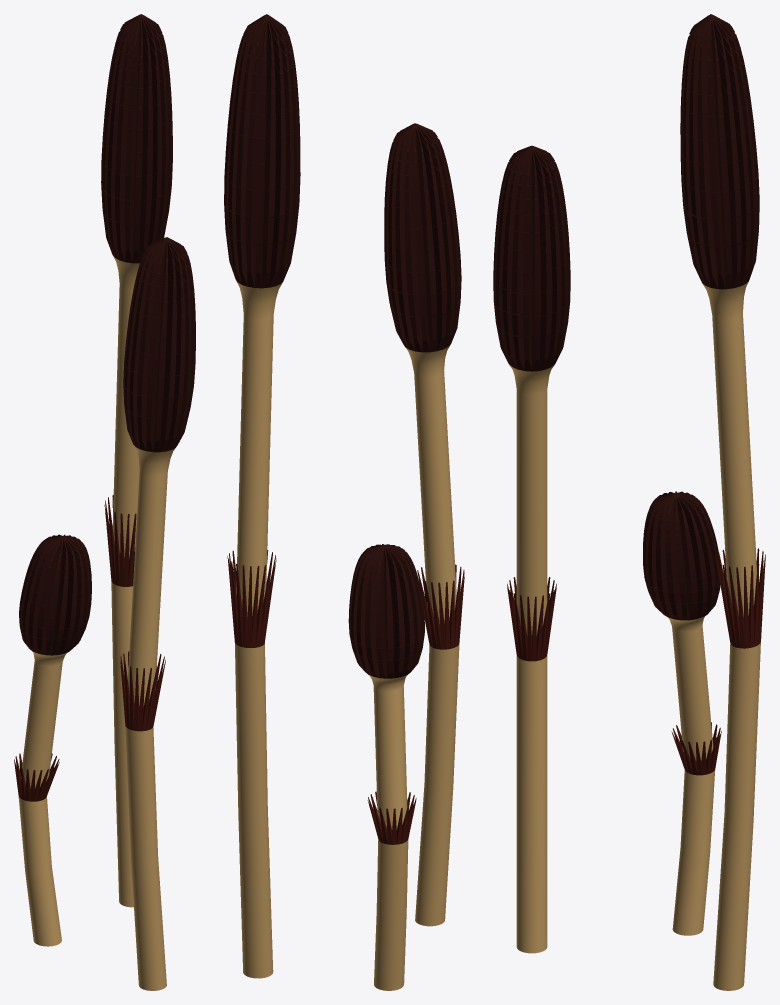
File: tukusi.fbx
3 views of the same model, side by side, from view 1: azimuth 30°, elevation 25°; view 2: azimuth 150°, elevation 25°; view 3: azimuth 270°, elevation 25° (orthographic). The views are drawn at different scales.
Parts seen in each view (by area): view 1: pCylinder4, pCylinder2, pCylinder3; view 2: pCylinder2, pCylinder4, pCylinder3; view 3: pCylinder2, pCylinder4, pCylinder3.
Boxes of the visible parts, bbox=[...] form: pCylinder4: bbox=[120, 237, 195, 990]; pCylinder2: bbox=[101, 14, 172, 907]; pCylinder3: bbox=[14, 534, 91, 946]; pCylinder2: bbox=[224, 14, 300, 978]; pCylinder4: bbox=[384, 123, 464, 926]; pCylinder3: bbox=[348, 544, 424, 990]; pCylinder2: bbox=[680, 14, 765, 990]; pCylinder4: bbox=[493, 145, 570, 953]; pCylinder3: bbox=[643, 491, 721, 935].
Size of the model in its own units: 130 by 688 by 175.
